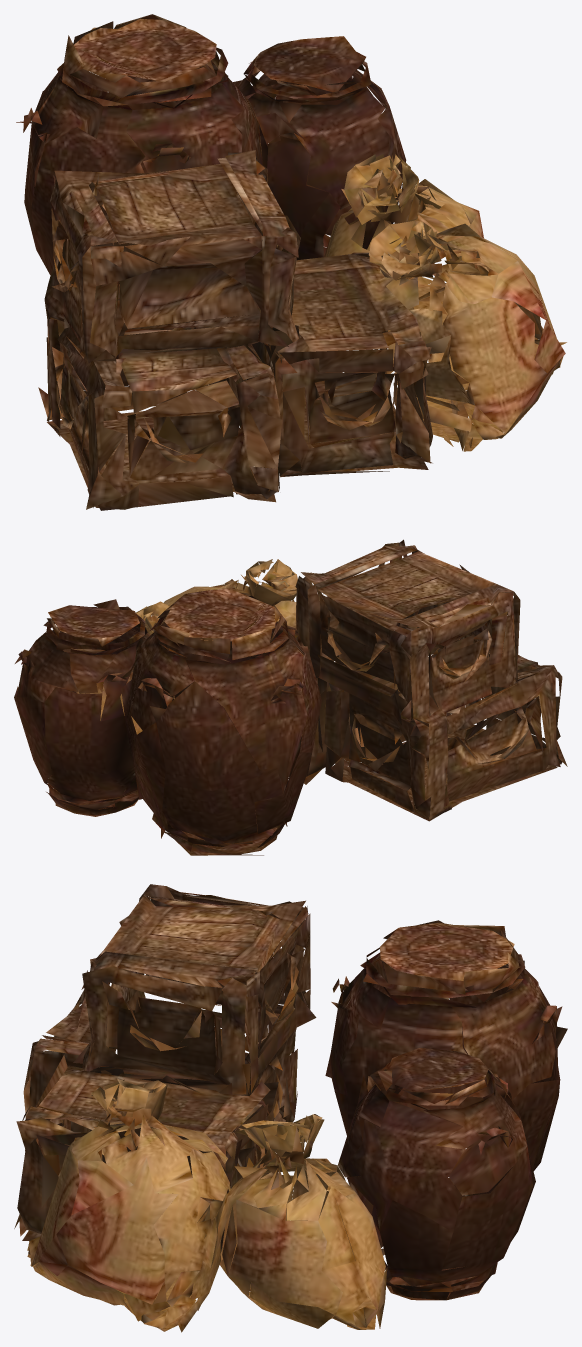
Rendered from caixotes_lod1.glb.
3 renders of one model, top to bottom at view 1: azimuth 30°, elevation 25°; view 2: azimuth 150°, elevation 25°; view 3: azimuth 270°, elevation 25°, orthographic. The views are drawn at different scales.
Visible parts, largest first — view 1: caixotes; view 2: caixotes; view 3: caixotes.
Boxes of the visible parts, left/top/right/bottom form: caixotes: left=16, top=14, right=566, bottom=510; caixotes: left=14, top=539, right=567, bottom=855; caixotes: left=14, top=884, right=567, bottom=1332.
Size of the model in its own units: 3.02 by 1.53 by 2.86.
1 material, 1 textured.
